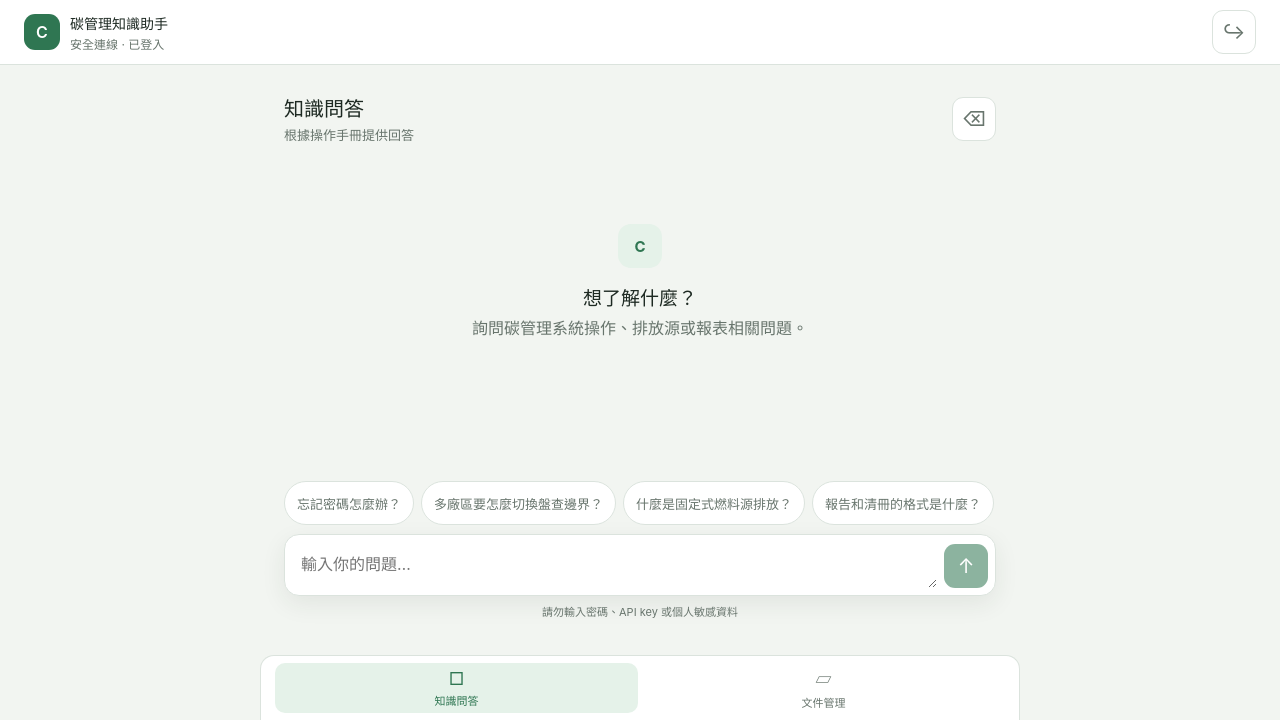
Scenario: chat acceptance › disables clear during streaming and supports stop
In the text box named "輸入問題": (614, 565) [292,542,937,588], type "問題"
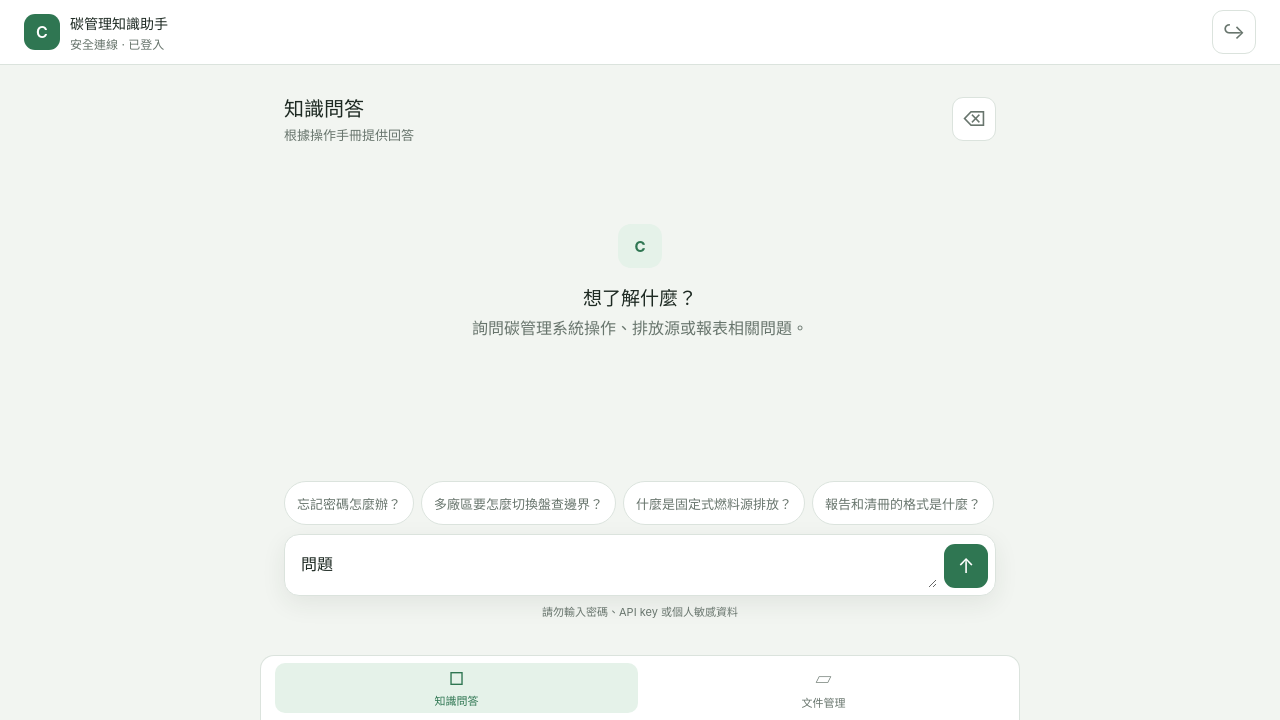
Click the button named "送出問題": (966, 566) [944,544,988,588]
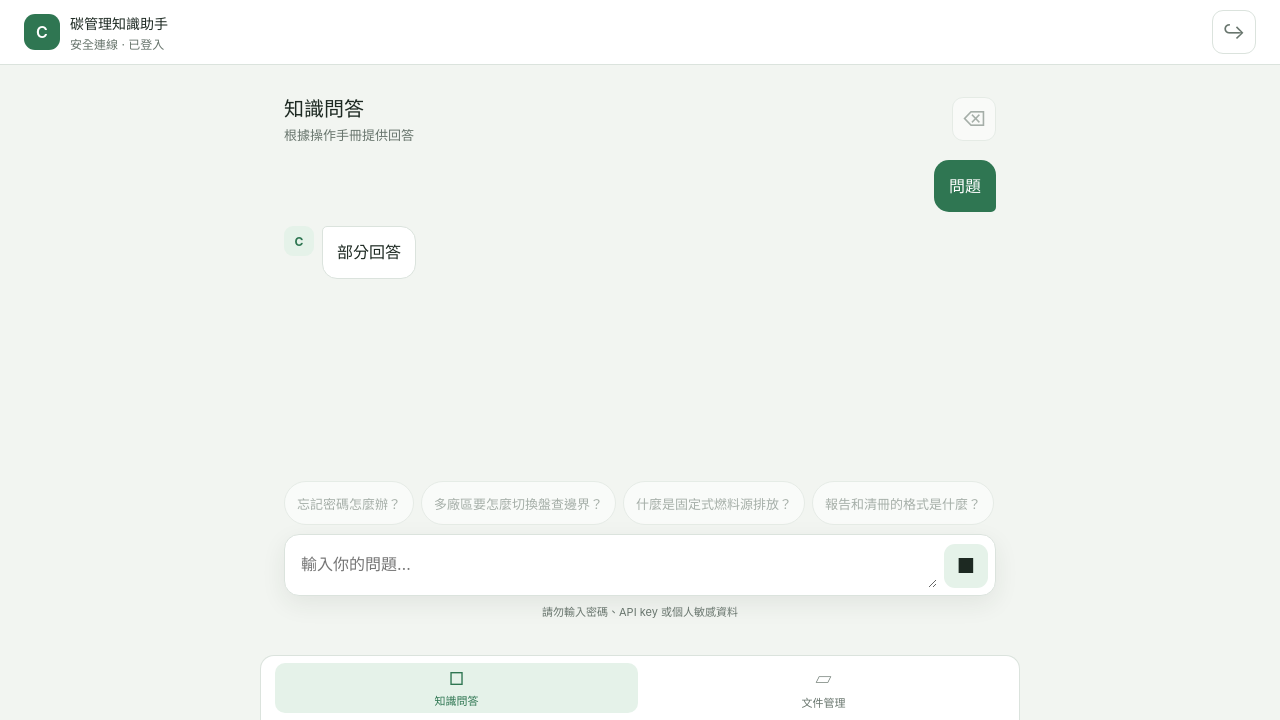
Expected: the text "部分回答" is shown, [337,239,401,266]
Expected: the button named "清除對話" is disabled, [952,96,996,140]
Click the button named "停止接收": (966, 566) [944,544,988,588]
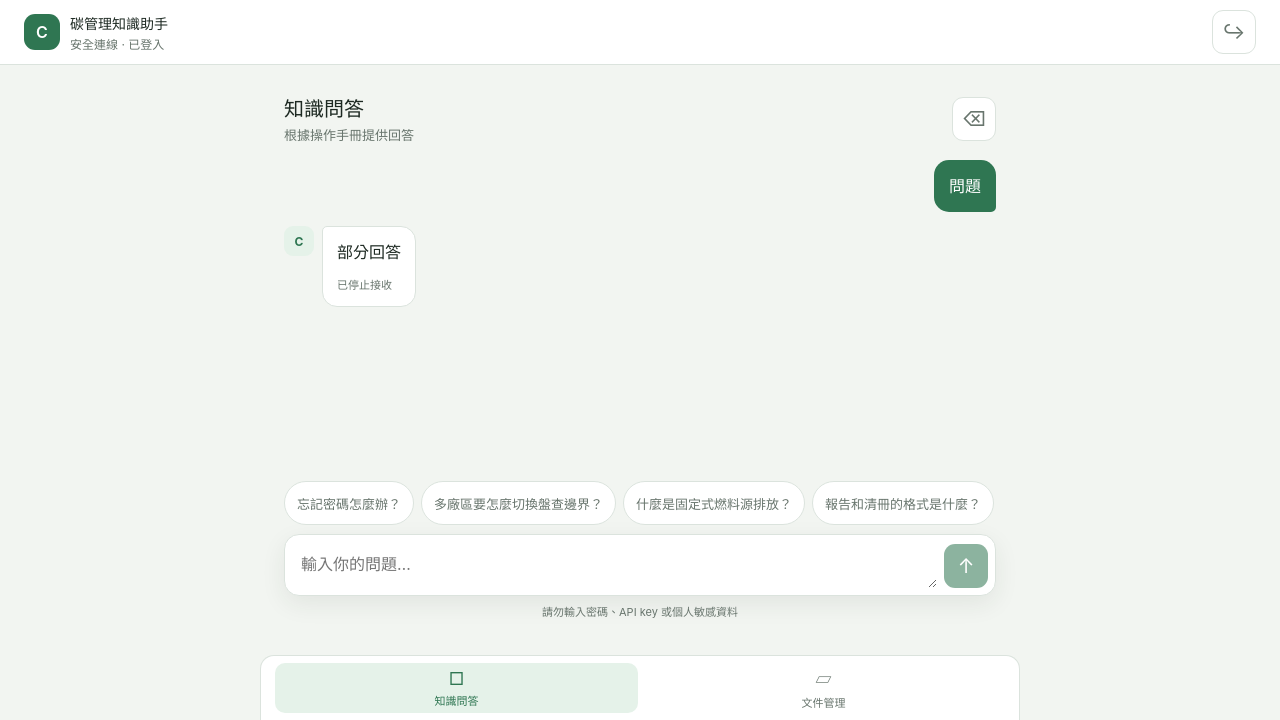
Expected: the text "已停止接收" is shown, [337,276,401,294]
